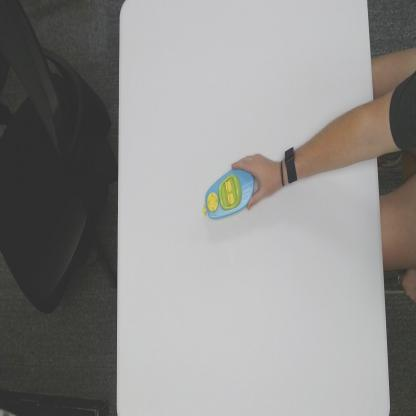Arm: (300, 102, 378, 177)
Boat: (203, 168, 255, 222)
Hand: (231, 152, 282, 212)
